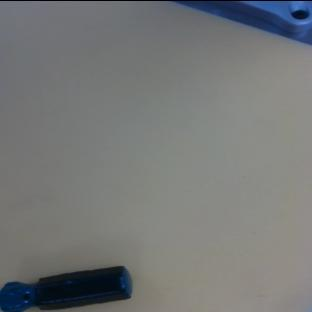part_2_bad: (0, 262, 134, 312)
